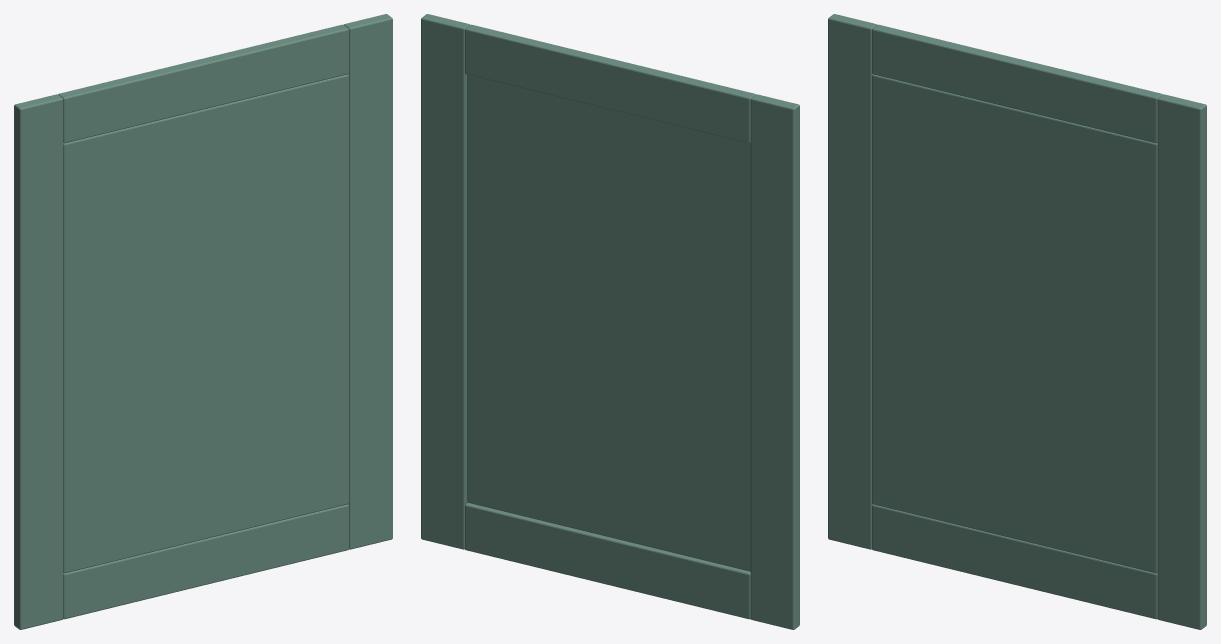
File: DOOR_SINGLE_600x800.glb
The picture shows the model from 3 angles, left to right: view 1: azimuth 30°, elevation 25°; view 2: azimuth 150°, elevation 25°; view 3: azimuth 330°, elevation 25°; orthographic projection.
Visible parts, largest first — view 1: front_panel_01_center, front_panel_01_left, front_panel_01_right, front_panel_01_top, front_panel_01_bottom; view 2: front_panel_01_center, front_panel_01_left, front_panel_01_right, front_panel_01_top, front_panel_01_bottom; view 3: front_panel_01_center, front_panel_01_right, front_panel_01_left, front_panel_01_top, front_panel_01_bottom.
Part boxes in pixels (x1,y1,x2,y2): front_panel_01_center: [63, 74, 348, 573]; front_panel_01_left: [14, 94, 63, 629]; front_panel_01_right: [344, 14, 392, 549]; front_panel_01_top: [58, 24, 348, 143]; front_panel_01_bottom: [63, 504, 348, 619]; front_panel_01_center: [467, 74, 750, 571]; front_panel_01_left: [750, 94, 799, 629]; front_panel_01_right: [421, 14, 469, 549]; front_panel_01_top: [465, 24, 755, 143]; front_panel_01_bottom: [465, 503, 750, 619]; front_panel_01_center: [872, 74, 1157, 573]; front_panel_01_right: [1157, 94, 1206, 629]; front_panel_01_left: [828, 14, 876, 549]; front_panel_01_top: [872, 24, 1162, 143]; front_panel_01_bottom: [872, 504, 1157, 619].
Bounding box in the file's own units: 0.596 × 0.796 × 0.018.
